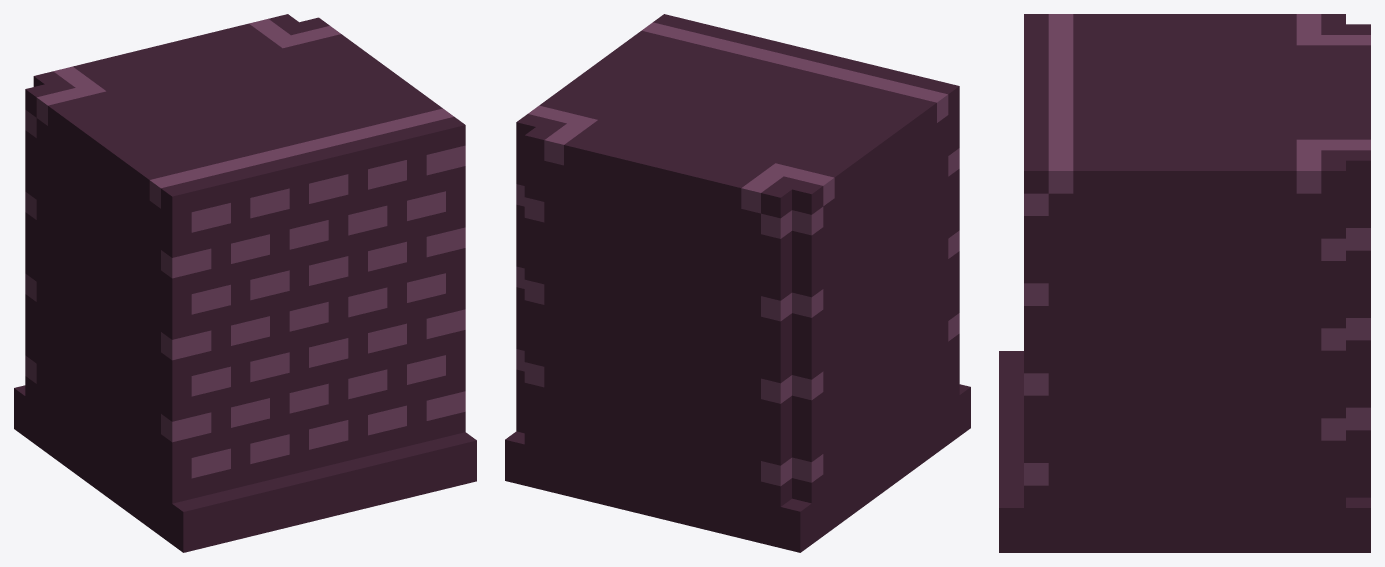
File: dungeon_c_a_inner_wall_segment_b.obj
3 renders of one model, left to right at view 1: azimuth 30°, elevation 25°; view 2: azimuth 150°, elevation 25°; view 3: azimuth 270°, elevation 25°, orthographic. The views are drawn at different scales.
Size of the model in its own units: 1.5 by 1.7 by 1.5.
Materials: 1 (1 with a texture image).
